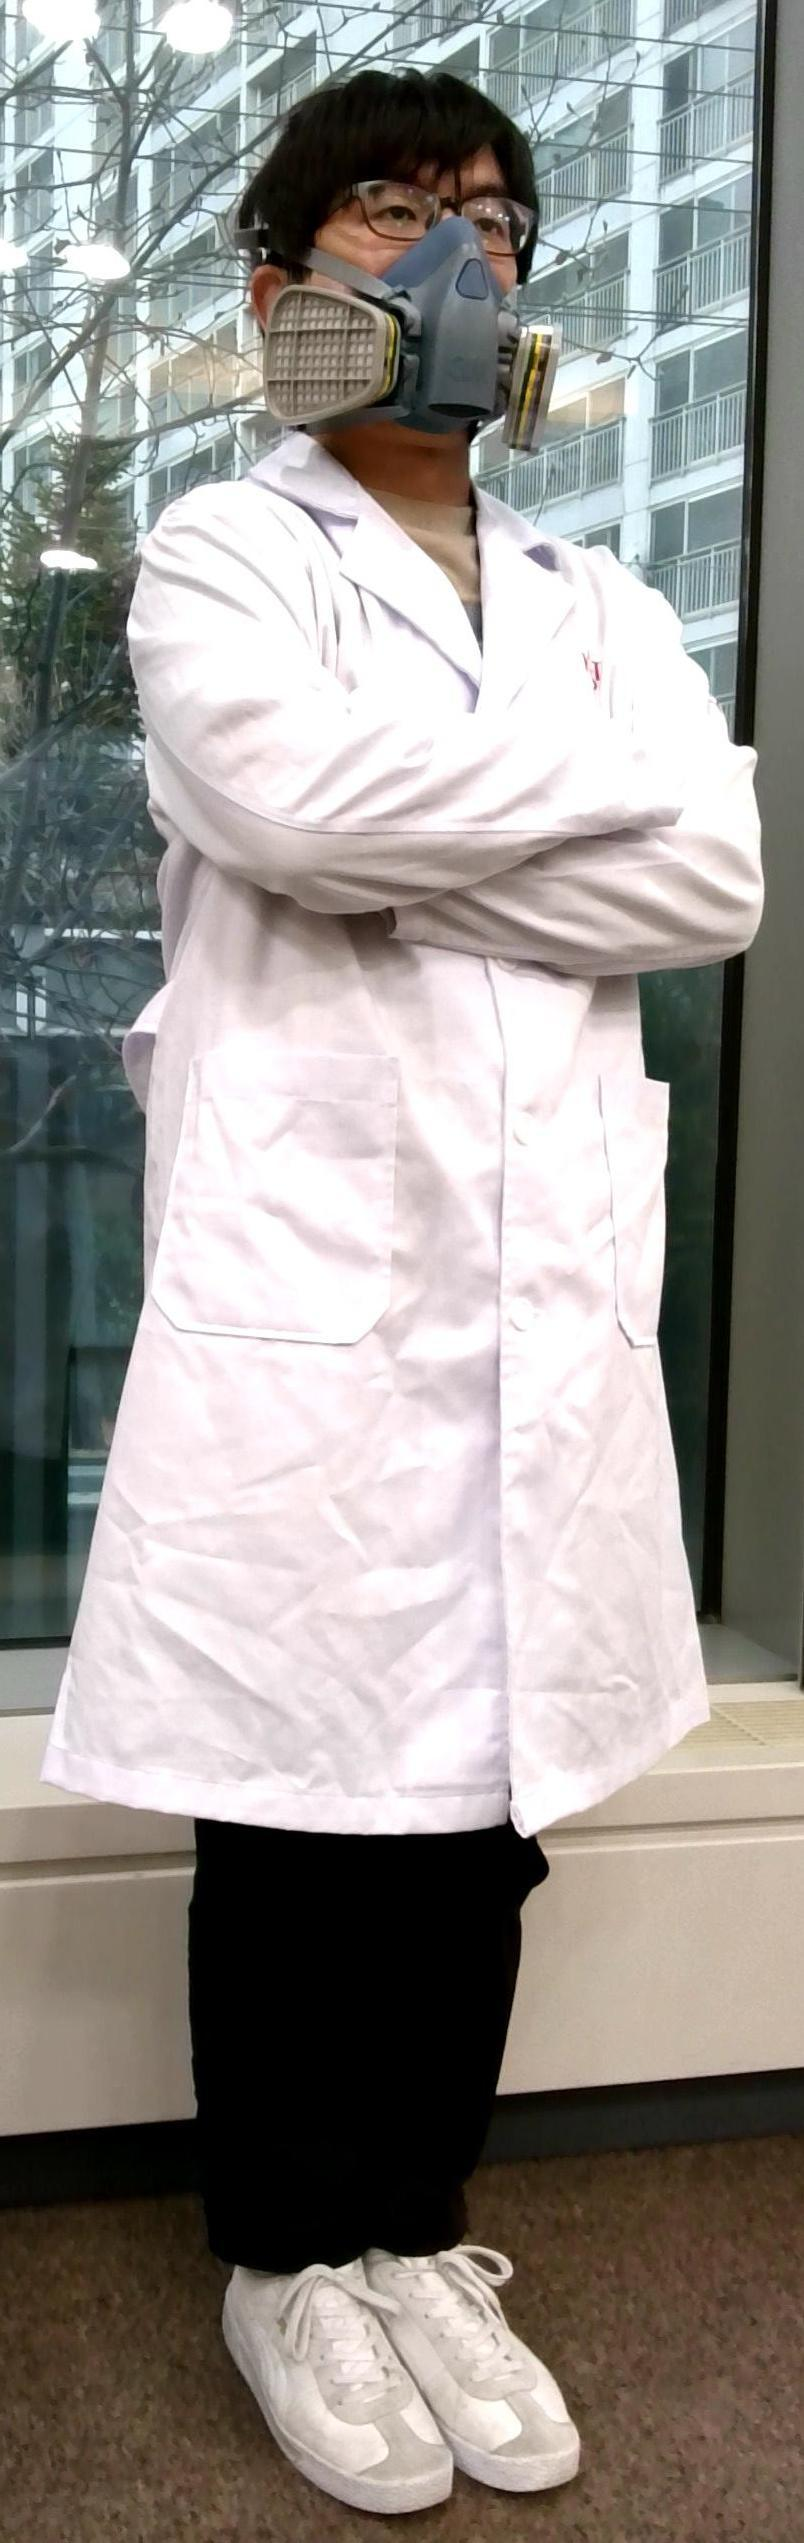lab_coat: (50, 461, 773, 1820)
